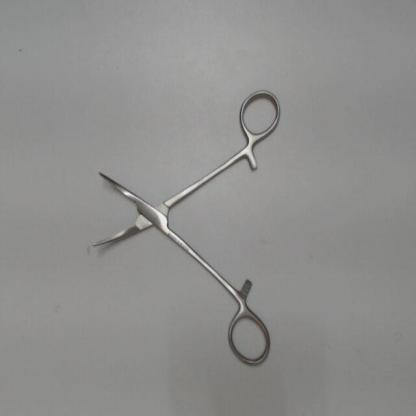Crile Artery Forceps: (86, 82, 282, 377)
